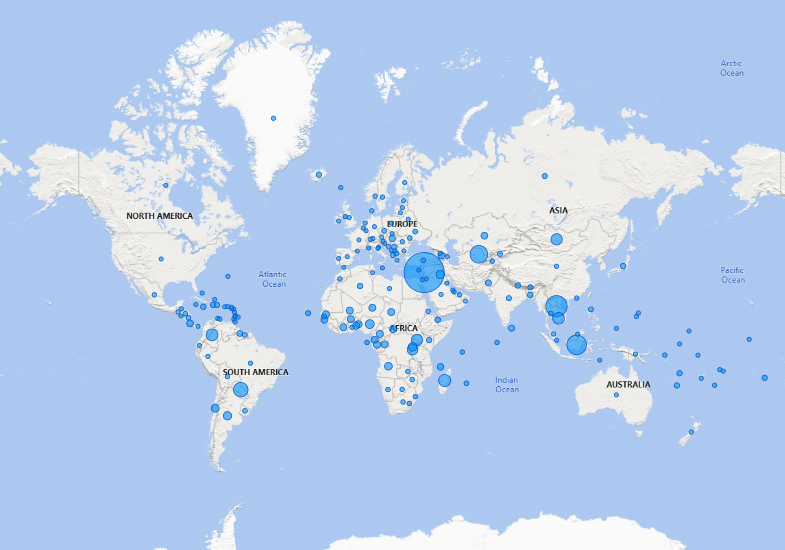

The dashboard page shown, as its layout file describes it:
{"tool":"powerbi","page":{"name":"World View","canvas":[1920,1080],"ordinal":0},"visuals":[{"type":"map","fields":{"Category":["Sheet1.Country Name"],"Size":["Sum(Sheet1.2025)"]},"box":[10.5,101.4,1868.9,939.1],"z":0},{"type":"textbox","box":[10.5,23.7,1868.9,93.5],"z":1}]}

Visuals, with their boxes on the page's 1920x1080 design canvas (x1, y1, x2, y2). These are canvas units, not pixel positions in the 785x550 screenshot, which may show the page scaled, cropped or inside an application window:
map - Sheet1.Country Name x Sum(Sheet1.2025): x1=10, y1=101, x2=1879, y2=1040
textbox: x1=10, y1=24, x2=1879, y2=117
